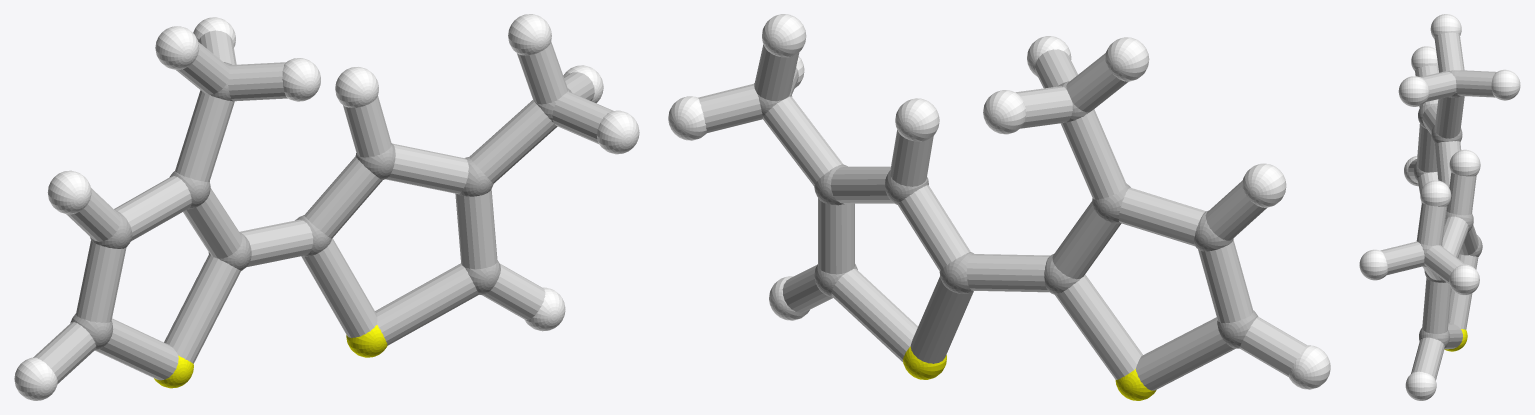
The model's file is Methylthiophene_Phi_25_Theta_180_Methylthiophene.glb.
3 renders of one model, left to right at view 1: azimuth 30°, elevation 25°; view 2: azimuth 150°, elevation 25°; view 3: azimuth 270°, elevation 25°, orthographic. The views are drawn at different scales.
Visible parts, largest first — view 1: grp7965, grp3621, grp1, grp7241; view 2: grp7965, grp3621, grp1, grp7241; view 3: grp7965, grp3621, grp1.
Boxes of the visible parts, left/top/right/bottom form: grp7965: left=33, top=30, right=613, bottom=383; grp3621: left=14, top=14, right=639, bottom=400; grp1: left=70, top=62, right=571, bottom=350; grp7241: left=154, top=325, right=387, bottom=388; grp7965: left=698, top=44, right=1306, bottom=390; grp3621: left=668, top=14, right=1330, bottom=389; grp1: left=754, top=81, right=1258, bottom=348; grp7241: left=903, top=346, right=1156, bottom=400; grp7965: left=1380, top=32, right=1496, bottom=380; grp3621: left=1359, top=14, right=1520, bottom=400; grp1: left=1413, top=70, right=1482, bottom=347.
Bounding box in the file's own units: 9.71 × 5.7 × 3.11.
